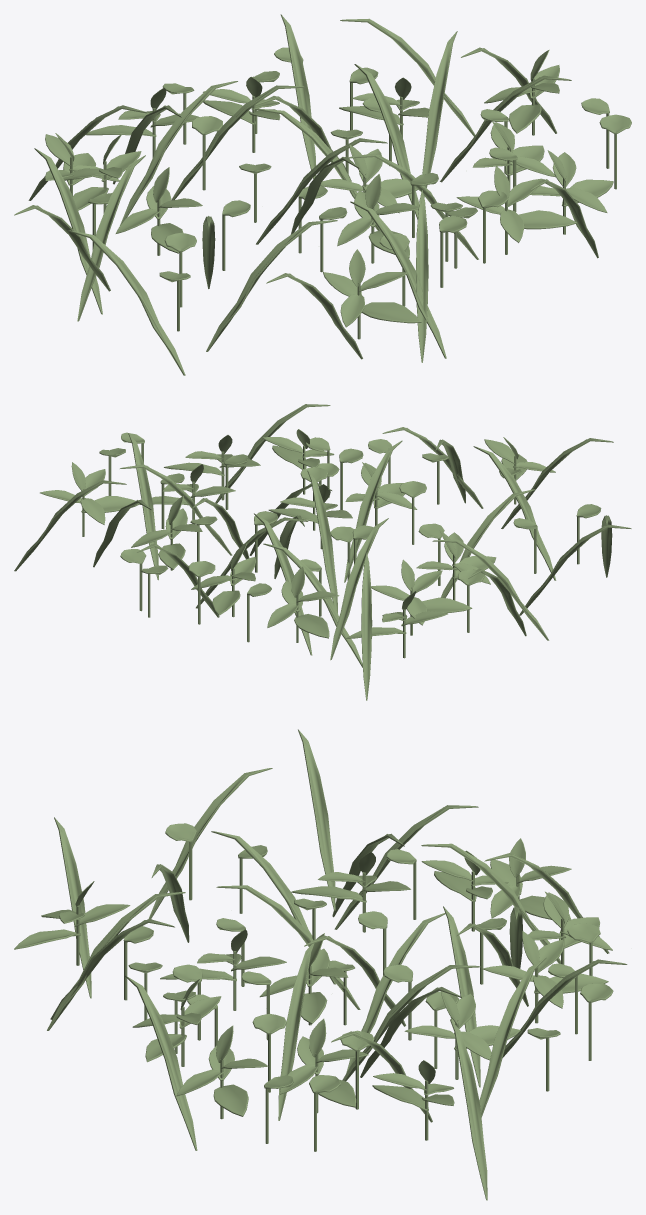
Rendered from grass2.fbx.
3 views of the same model, one above another, from view 1: azimuth 30°, elevation 25°; view 2: azimuth 150°, elevation 25°; view 3: azimuth 270°, elevation 25° (orthographic). The views are drawn at different scales.
Visible parts, largest first — view 1: plant_leaf_LOD0; view 2: plant_leaf_LOD0; view 3: plant_leaf_LOD0.
Boxes of the visible parts, box(x1,y1,x2,y2) form: plant_leaf_LOD0: box(14, 14, 631, 375); plant_leaf_LOD0: box(14, 404, 631, 700); plant_leaf_LOD0: box(14, 729, 627, 1200).
Bounding box in the file's own units: 27.37 × 6.2 × 21.94.
